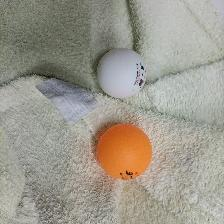WhiteBall: (95, 47, 147, 98)
YellowBall: (95, 122, 152, 180)
